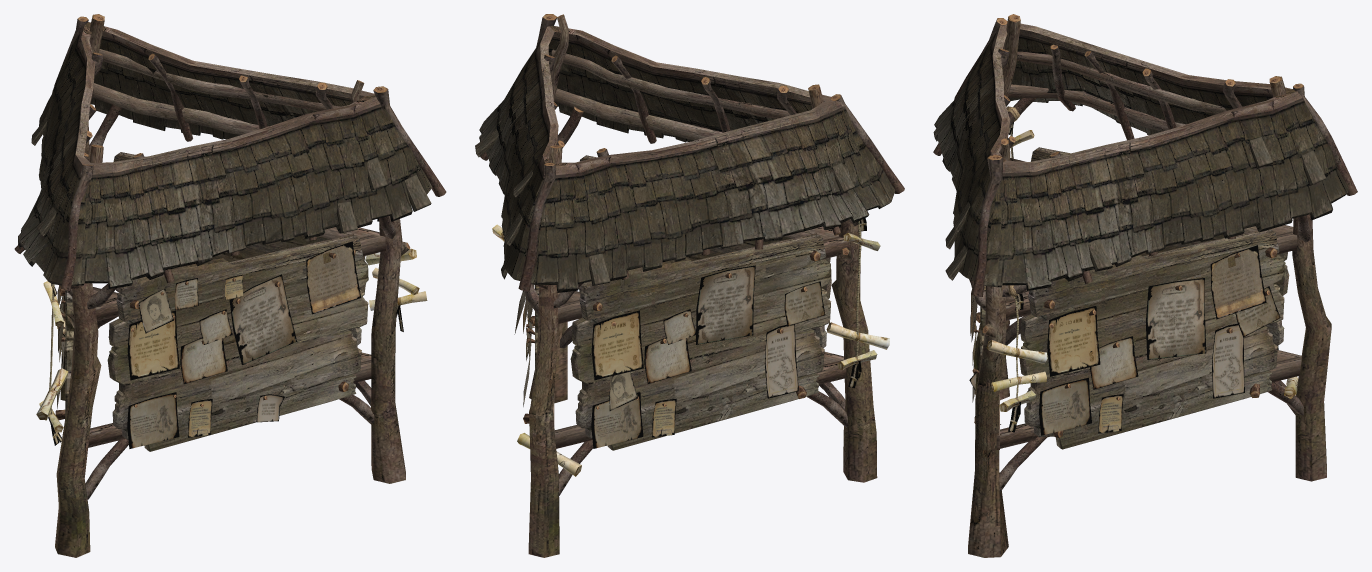
The model's file is Board01.FBX.
3 views of the same model, side by side, from view 1: azimuth 30°, elevation 25°; view 2: azimuth 150°, elevation 25°; view 3: azimuth 270°, elevation 25° (orthographic).
Parts seen in each view (by area): view 1: LV_TurtleLake_LakeVillage_Board01_SM_EYE, LV_TurtleLake_LakeVillage_Board02_SM_EYE; view 2: LV_TurtleLake_LakeVillage_Board01_SM_EYE, LV_TurtleLake_LakeVillage_Board02_SM_EYE; view 3: LV_TurtleLake_LakeVillage_Board01_SM_EYE, LV_TurtleLake_LakeVillage_Board02_SM_EYE.
Part boxes in pixels (x1,y1,x2,y2): LV_TurtleLake_LakeVillage_Board01_SM_EYE: (14, 14, 446, 557); LV_TurtleLake_LakeVillage_Board02_SM_EYE: (36, 218, 427, 448); LV_TurtleLake_LakeVillage_Board01_SM_EYE: (475, 14, 904, 557); LV_TurtleLake_LakeVillage_Board02_SM_EYE: (492, 218, 889, 476); LV_TurtleLake_LakeVillage_Board01_SM_EYE: (933, 14, 1357, 557); LV_TurtleLake_LakeVillage_Board02_SM_EYE: (969, 106, 1297, 437).
Size of the model in its own units: 124 by 117 by 112.
